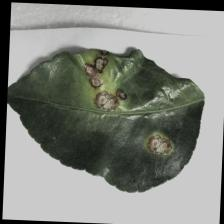canker: (72, 47, 178, 153)
